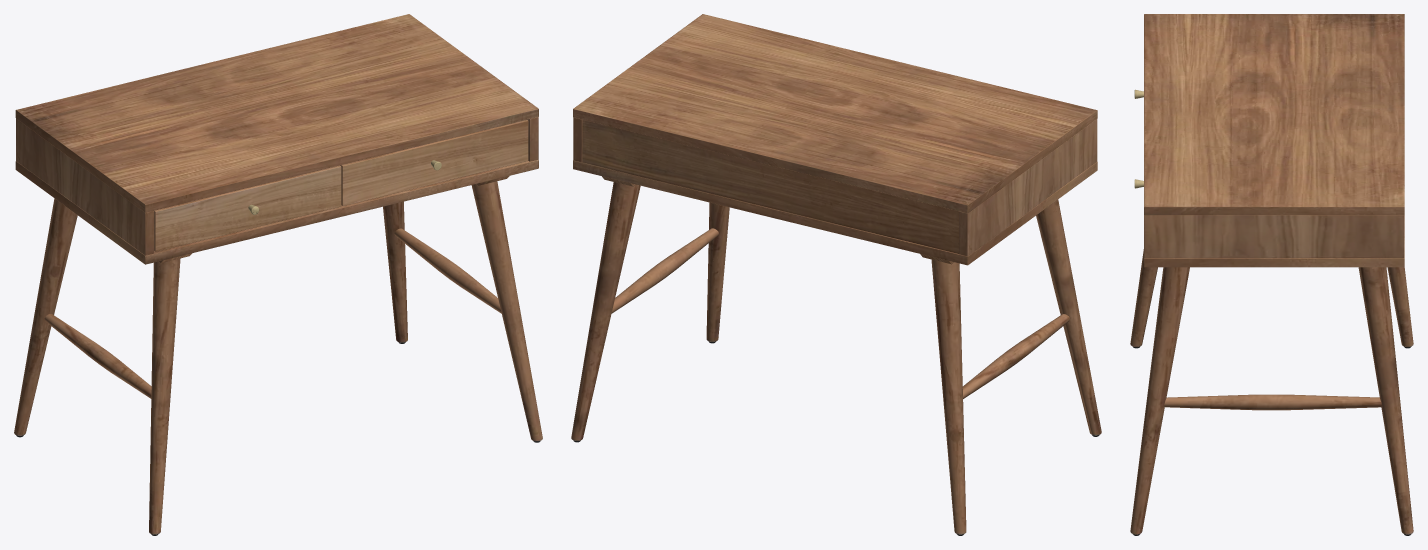
3 views of the same model, side by side, from view 1: azimuth 30°, elevation 25°; view 2: azimuth 150°, elevation 25°; view 3: azimuth 270°, elevation 25° (orthographic).
Parts seen in each view (by area): view 1: RootNode; view 2: RootNode; view 3: RootNode.
Part boxes in pixels (<box>): RootNode: <box>14,14,542,535</box>; RootNode: <box>571,14,1101,535</box>; RootNode: <box>1130,14,1413,535</box>.
Size of the model in its own units: 0.9494 by 0.7579 by 0.5881.
1 material, 1 textured.
